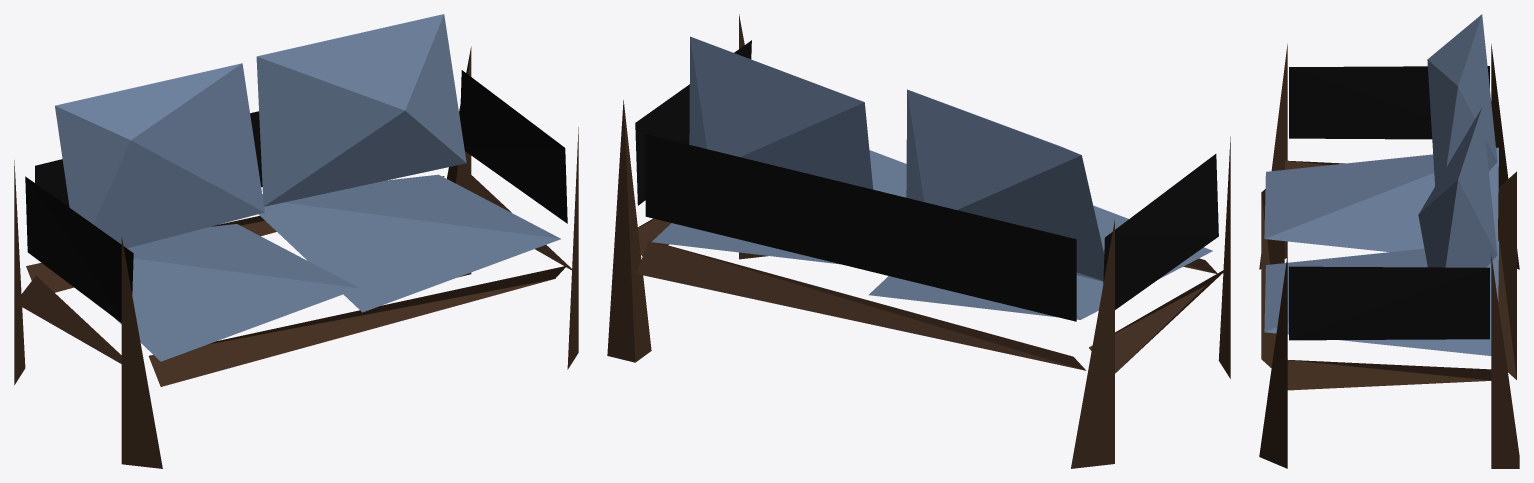
The model's file is bay-lounge-sofa.lod2.glb.
The picture shows the model from 3 angles, left to right: view 1: azimuth 30°, elevation 25°; view 2: azimuth 150°, elevation 25°; view 3: azimuth 270°, elevation 25°; orthographic projection. The views are drawn at different scales.
Parts seen in each view (by area): view 1: LoungeSofa_LeatherWeave_0; view 2: LoungeSofa_LeatherWeave_0; view 3: LoungeSofa_LeatherWeave_0.
Part boxes in pixels (box(x1,y1,x2,y2)): LoungeSofa_LeatherWeave_0: box(14, 14, 578, 468); LoungeSofa_LeatherWeave_0: box(607, 14, 1230, 468); LoungeSofa_LeatherWeave_0: box(1259, 14, 1519, 468).
Size of the model in its own units: 1.6 by 0.9501 by 0.8343.
